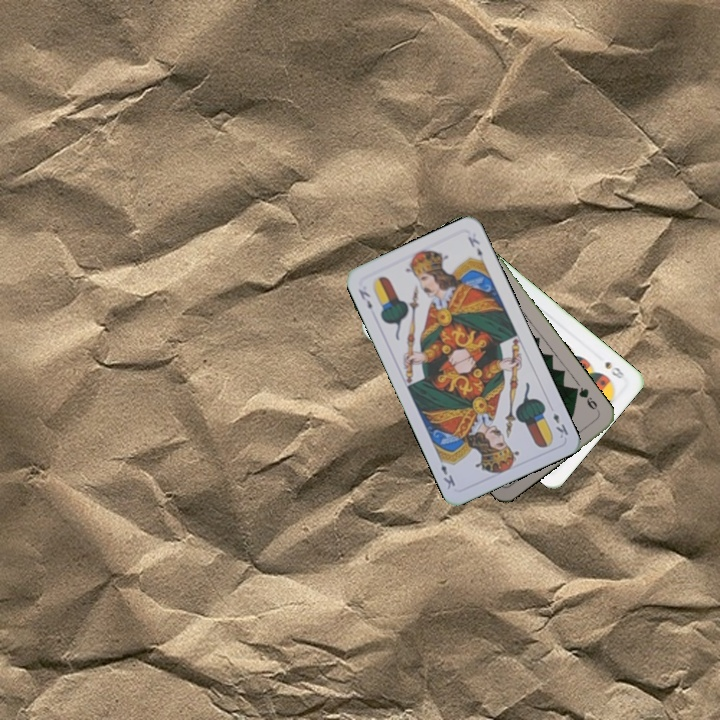EK: (549, 409, 571, 441), (354, 285, 375, 312)
G9: (569, 383, 602, 415)
S8: (601, 357, 629, 381)
